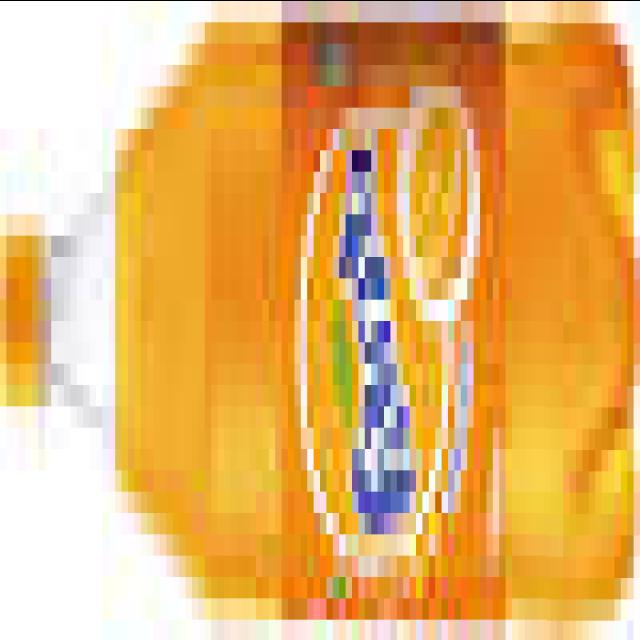bottom: (547, 1, 639, 637)
label: (276, 0, 510, 640)
neck: (0, 0, 212, 640)
